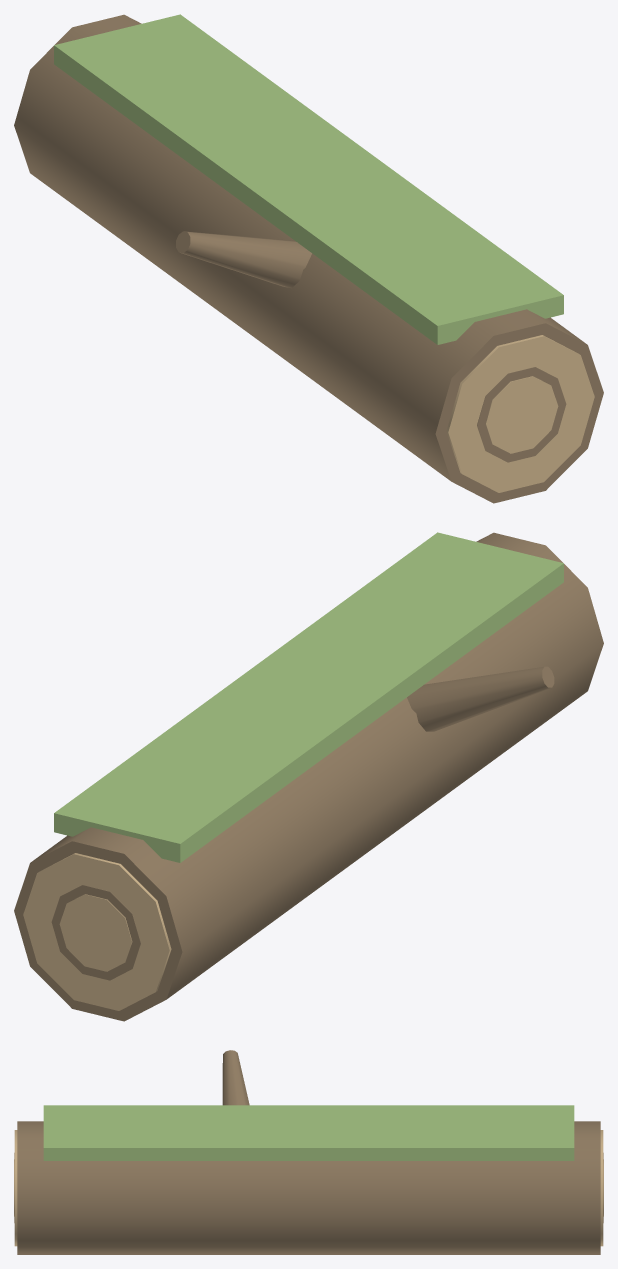
Rendered from log-fallen-mossy.glb.
3 views of the same model, one above another, from view 1: azimuth 30°, elevation 25°; view 2: azimuth 150°, elevation 25°; view 3: azimuth 270°, elevation 25° (orthographic). The views are drawn at different scales.
Parts seen in each view (by area): view 1: log-fallen-kit-mossy-wood, log-fallen-kit-mossy-top, log-fallen-kit-mossy-end; view 2: log-fallen-kit-mossy-wood, log-fallen-kit-mossy-top, log-fallen-kit-mossy-end; view 3: log-fallen-kit-mossy-wood, log-fallen-kit-mossy-top, log-fallen-kit-mossy-end.
Part boxes in pixels (x1,y1,x2,y2): log-fallen-kit-mossy-wood: (14, 14, 603, 503); log-fallen-kit-mossy-top: (54, 14, 563, 344); log-fallen-kit-mossy-end: (446, 335, 594, 492); log-fallen-kit-mossy-wood: (14, 532, 603, 1021); log-fallen-kit-mossy-top: (54, 532, 563, 862); log-fallen-kit-mossy-end: (23, 853, 171, 1010); log-fallen-kit-mossy-wood: (14, 1050, 603, 1254); log-fallen-kit-mossy-top: (43, 1105, 574, 1160); log-fallen-kit-mossy-end: (14, 1130, 603, 1246).
Bounding box in the file's own units: 0.9646 × 0.6671 × 2.63.
